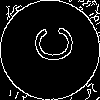C: (25, 25, 74, 64)
